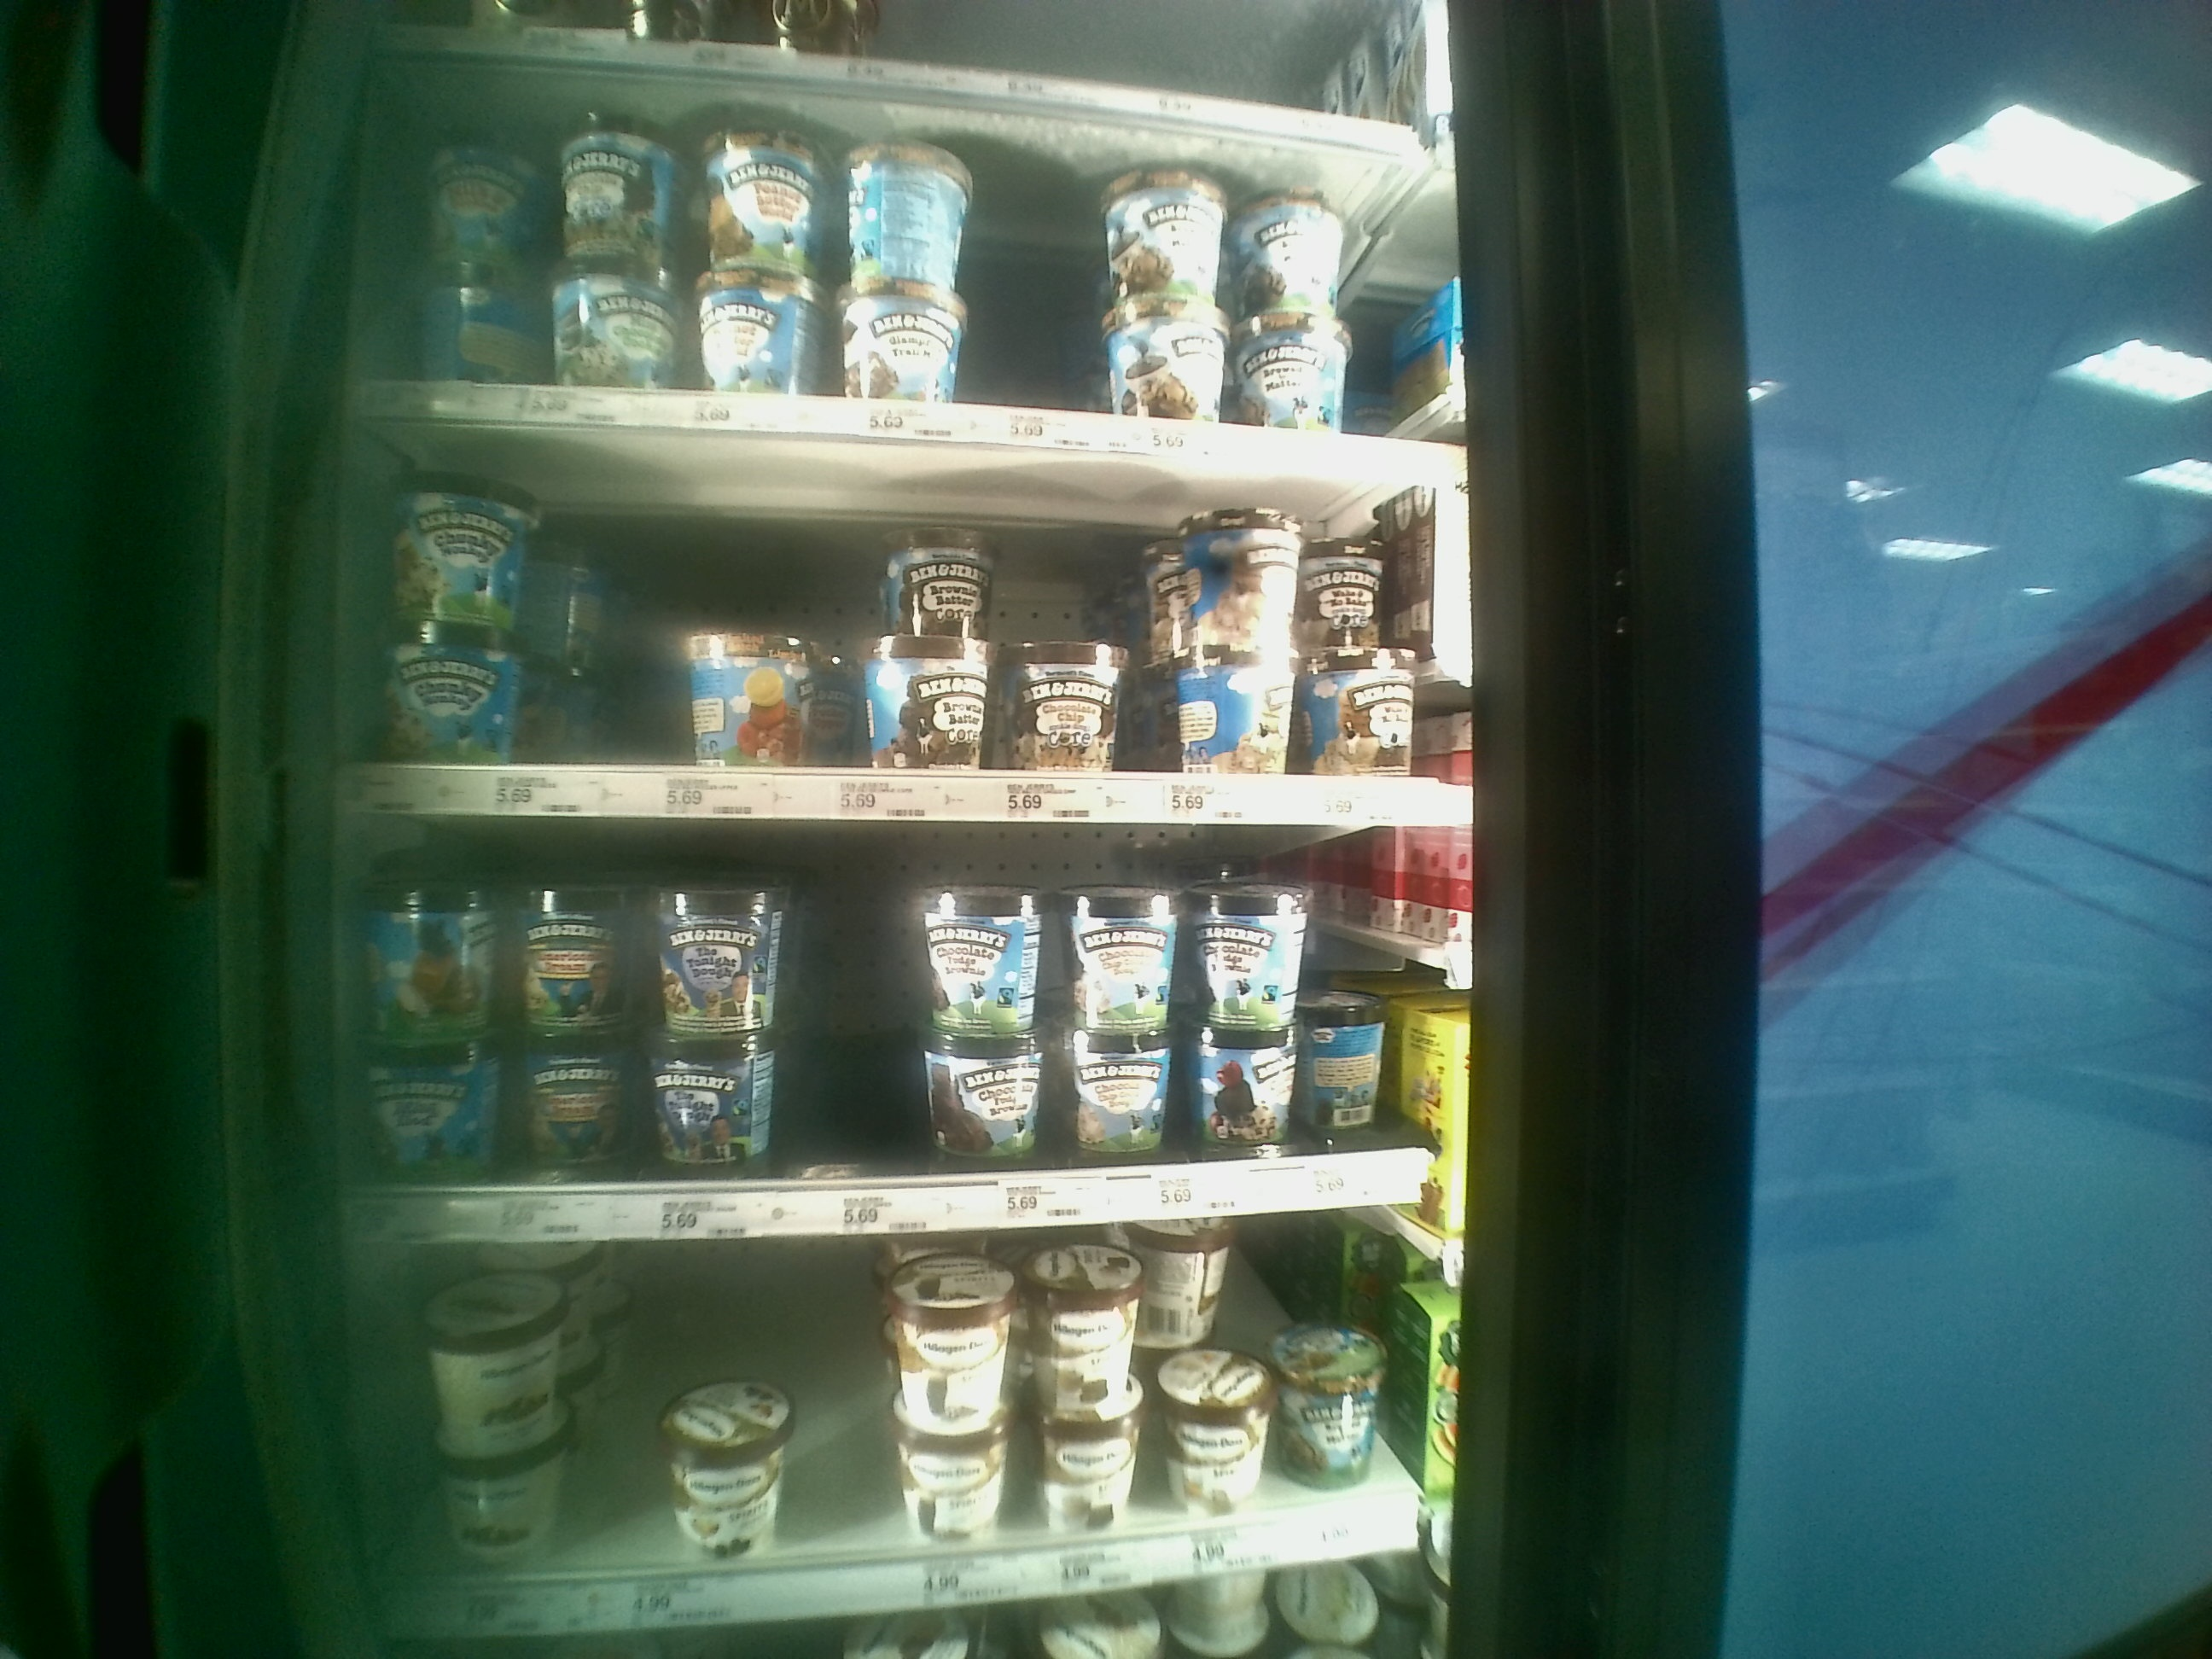ice-cream-shelf: (343, 817, 1458, 1225)
